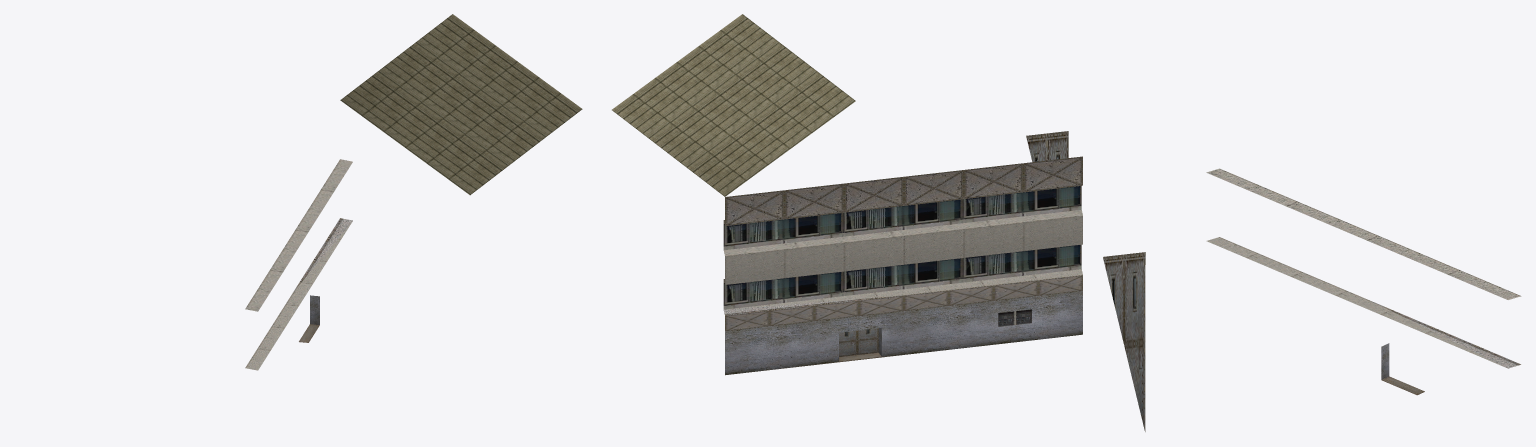
Rendered from M11Z1_Building02_A_Ext2.glb.
3 renders of one model, left to right at view 1: azimuth 30°, elevation 25°; view 2: azimuth 150°, elevation 25°; view 3: azimuth 270°, elevation 25°, orthographic. The views are drawn at different scales.
Visible parts, largest first — view 1: M11Z1_BUILDING02_A_EXT2; view 2: M11Z1_BUILDING02_A_EXT2; view 3: M11Z1_BUILDING02_A_EXT2.
Part boxes in pixels (left/top/right/bottom): M11Z1_BUILDING02_A_EXT2: left=245, top=14, right=582, bottom=370; M11Z1_BUILDING02_A_EXT2: left=612, top=14, right=1145, bottom=431; M11Z1_BUILDING02_A_EXT2: left=1206, top=168, right=1521, bottom=395.
Bounding box in the file's own units: 34.4 × 16 × 18.4.
10 materials, 10 textured.
